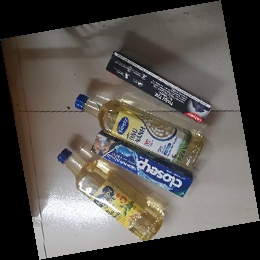CloseUp Tuyet: (90, 132, 196, 199)
Colgate Than: (105, 50, 214, 126)
Happy Soya: (55, 147, 165, 243)
Simply: (72, 92, 206, 171)
